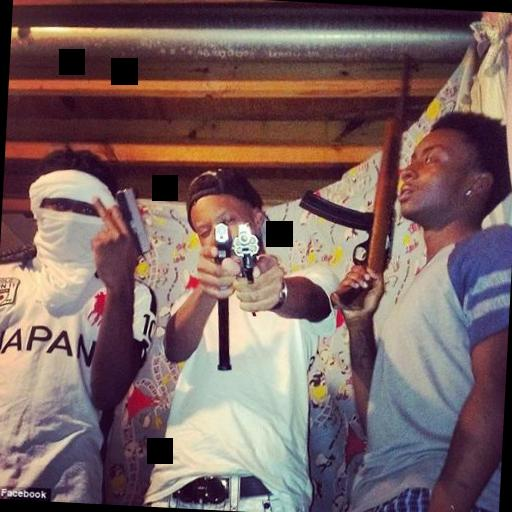Handgun: (92, 184, 150, 280), (228, 218, 266, 318), (204, 218, 237, 308)
